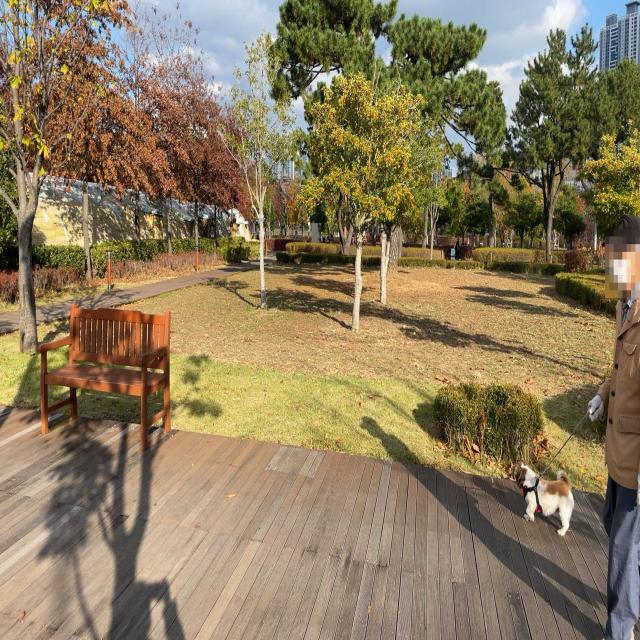Leashed_Dog: (513, 378, 619, 536)
